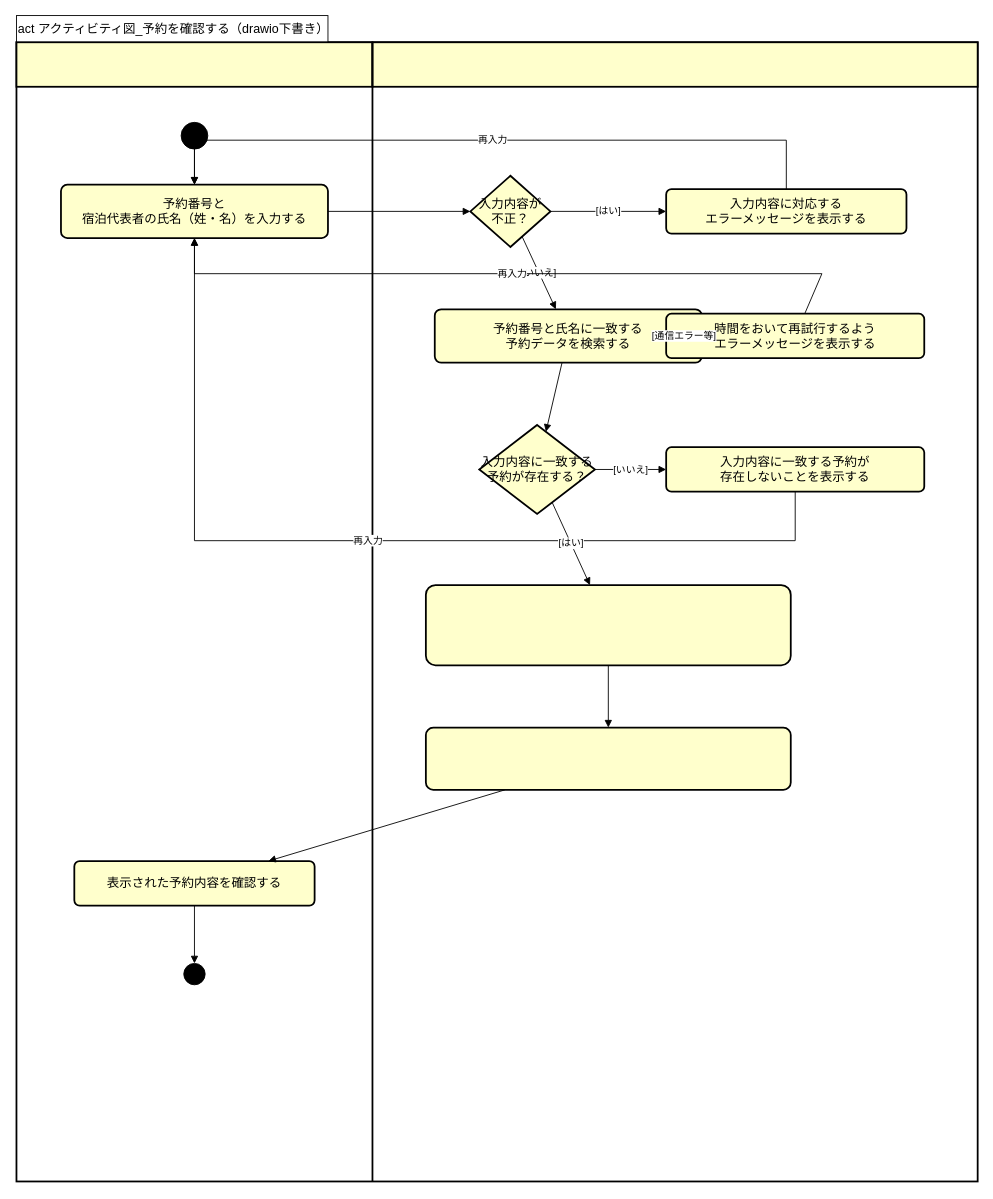
This 993x1199 diagram has some shape labels left out. The shapes that lost their labels are listed below. From the top down, each one's centre as x and y in pixels, then its label:
At pixel 194 64: "利用者".
At pixel 674 64: "ホテル予約システム".
At pixel 608 625: "予約内容を表示する 予約番号 / 客室 / 日程 / 人数 / 代表者 / メール / 電話番号 / 料金 / 状態 / 部屋番号（割当済みの場合）".
At pixel 608 758: "状態に応じた導線を表示する 予約済: キャンセル / 当日: チェックイン / チェックイン済: チェックアウト".
